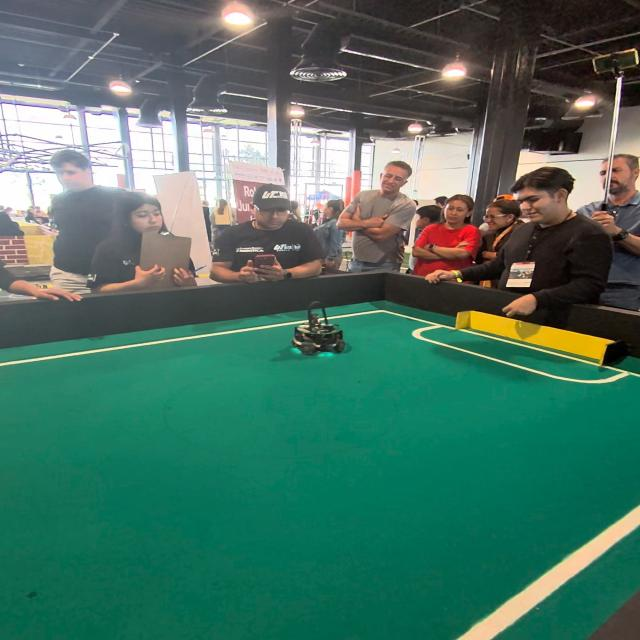Robot: (290, 300, 348, 358)
